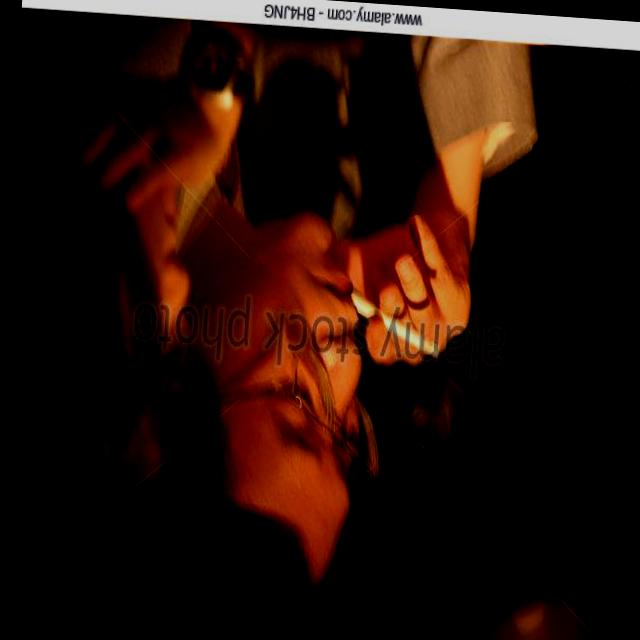cigarette: (336, 251, 456, 384)
